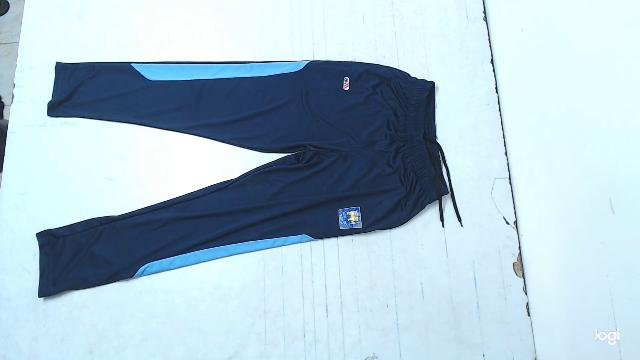new-garment: (36, 61, 453, 297)
